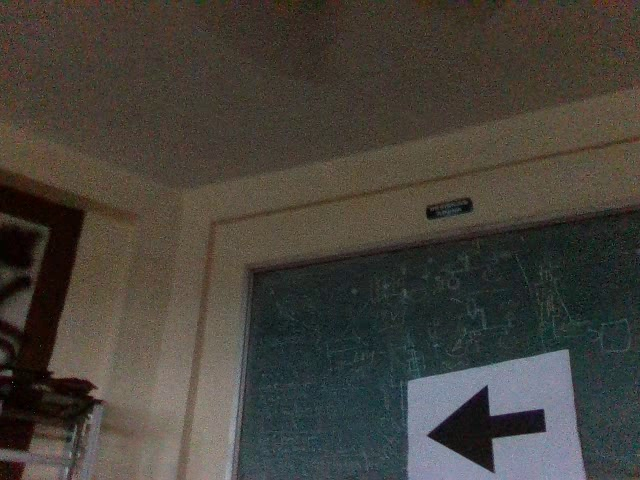Left: (422, 380, 552, 475)
